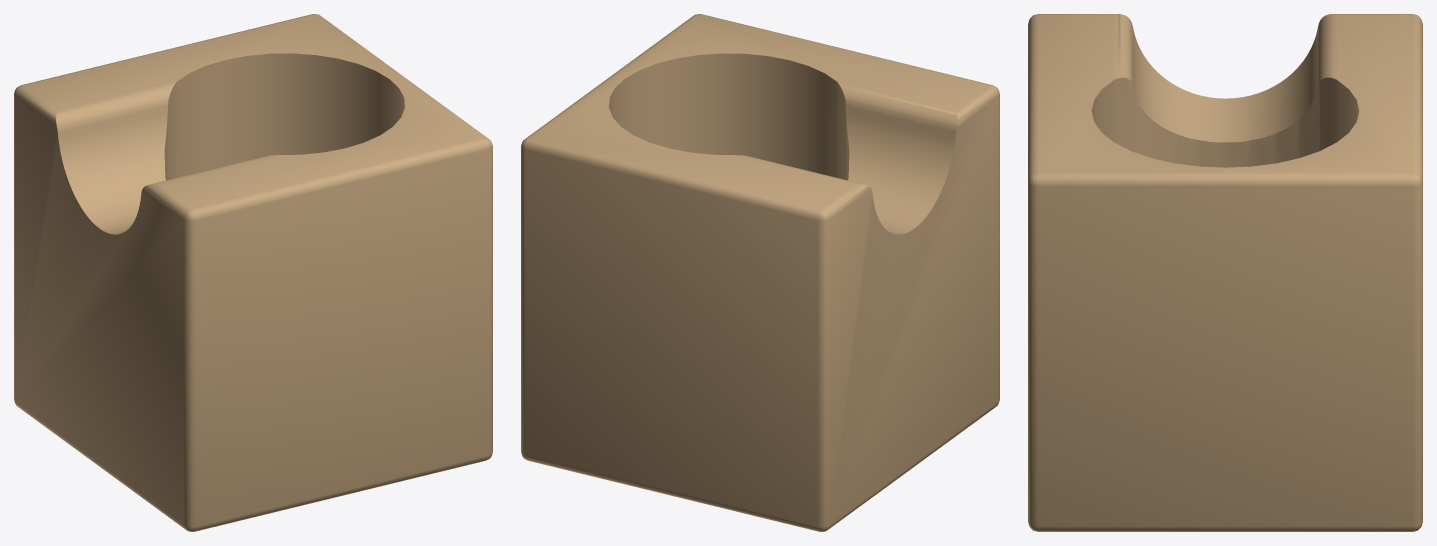
Rendered from mech_finish.glb.
The picture shows the model from 3 angles, left to right: view 1: azimuth 30°, elevation 25°; view 2: azimuth 150°, elevation 25°; view 3: azimuth 270°, elevation 25°; orthographic projection. The views are drawn at different scales.
Parts seen in each view (by area): view 1: mech_finish_lod0; view 2: mech_finish_lod0; view 3: mech_finish_lod0.
Boxes of the visible parts, x1,y1,x2,y2 form: mech_finish_lod0: (14, 14, 492, 531); mech_finish_lod0: (521, 14, 999, 531); mech_finish_lod0: (1028, 14, 1422, 531).
Size of what is drawn, in the model's own units: 0.059 by 0.059 by 0.059.
